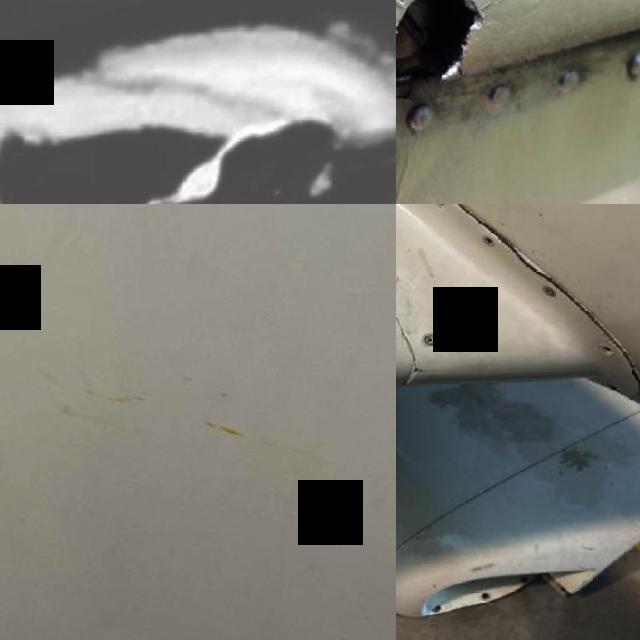Crack: (0, 59, 396, 204), (396, 0, 583, 129), (501, 234, 567, 284), (396, 368, 449, 385), (625, 342, 640, 401)
Missing_Fastener: (482, 238, 498, 248), (602, 347, 616, 358)
